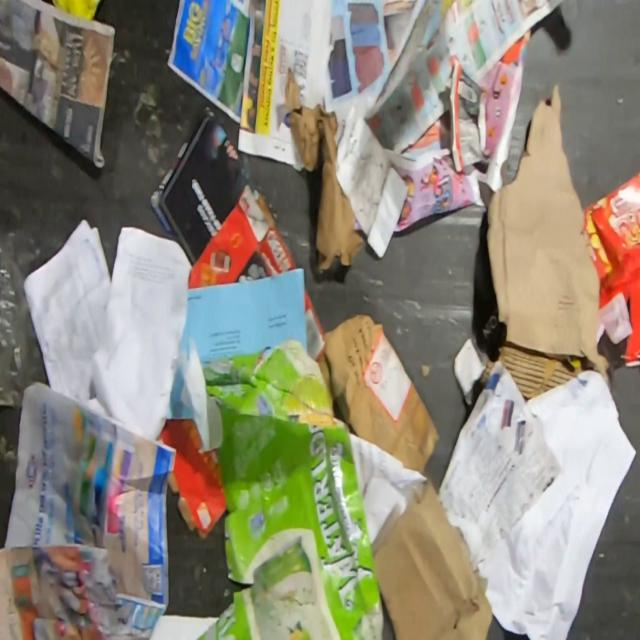cardboard: (195, 338, 385, 639), (478, 83, 612, 401), (371, 473, 493, 640), (324, 312, 441, 479), (284, 66, 366, 276), (188, 182, 298, 289), (582, 169, 640, 368), (157, 418, 229, 542), (453, 304, 505, 408), (304, 286, 328, 363)
soft_plastic: (0, 249, 34, 409)
